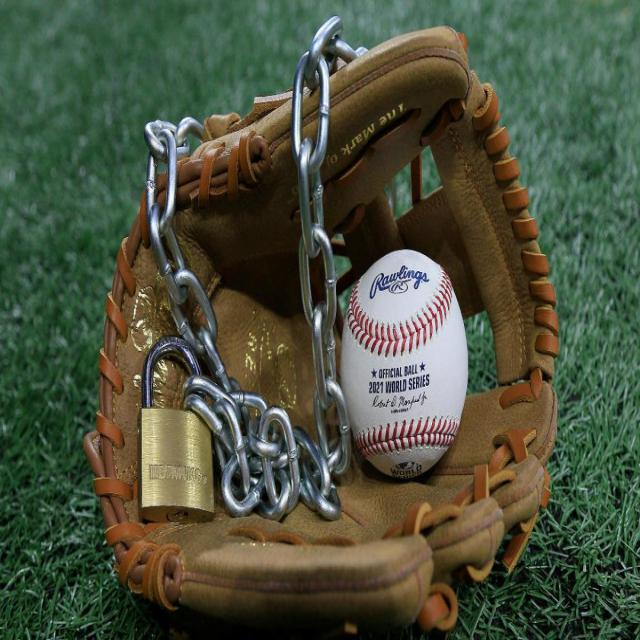baseball: (342, 246, 470, 477)
